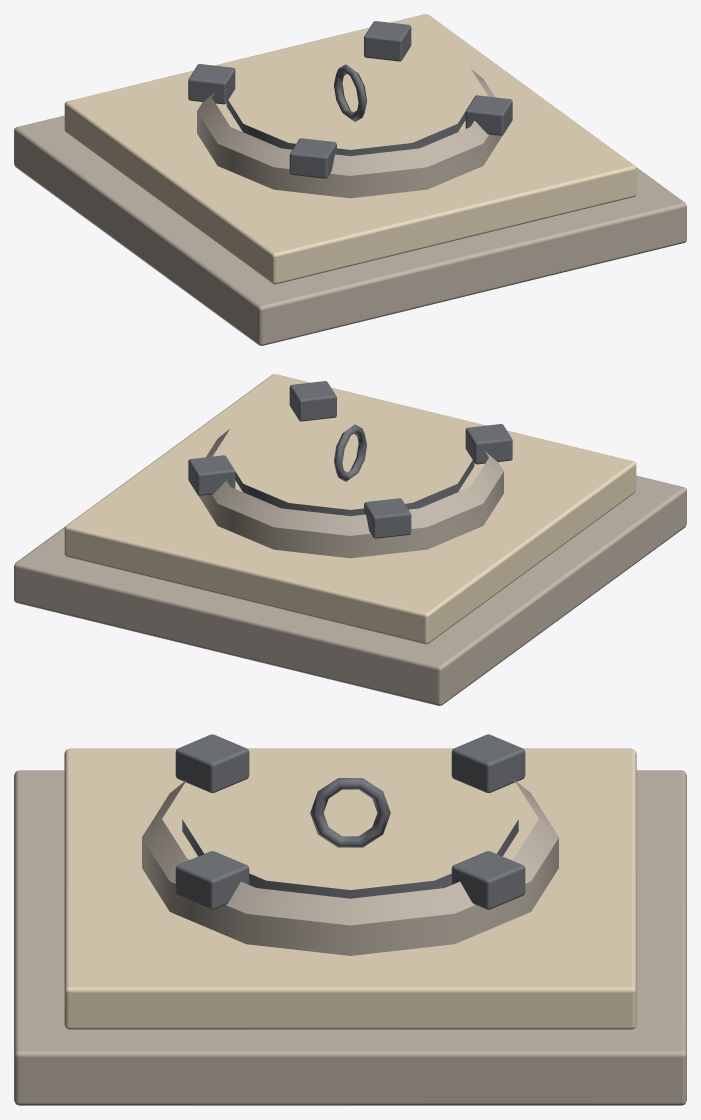
Rendered from cistern-cover-67d09d40.glb.
3 renders of one model, top to bottom at view 1: azimuth 30°, elevation 25°; view 2: azimuth 150°, elevation 25°; view 3: azimuth 270°, elevation 25°, orthographic. The views are drawn at different scales.
Parts seen in each view (by area): view 1: cistern-cover; view 2: cistern-cover; view 3: cistern-cover.
Part boxes in pixels (<box>): cistern-cover: <box>14,14,686,345</box>; cistern-cover: <box>14,374,686,705</box>; cistern-cover: <box>14,734,686,1105</box>.
Size of the model in its own units: 2 by 0.6141 by 2.
